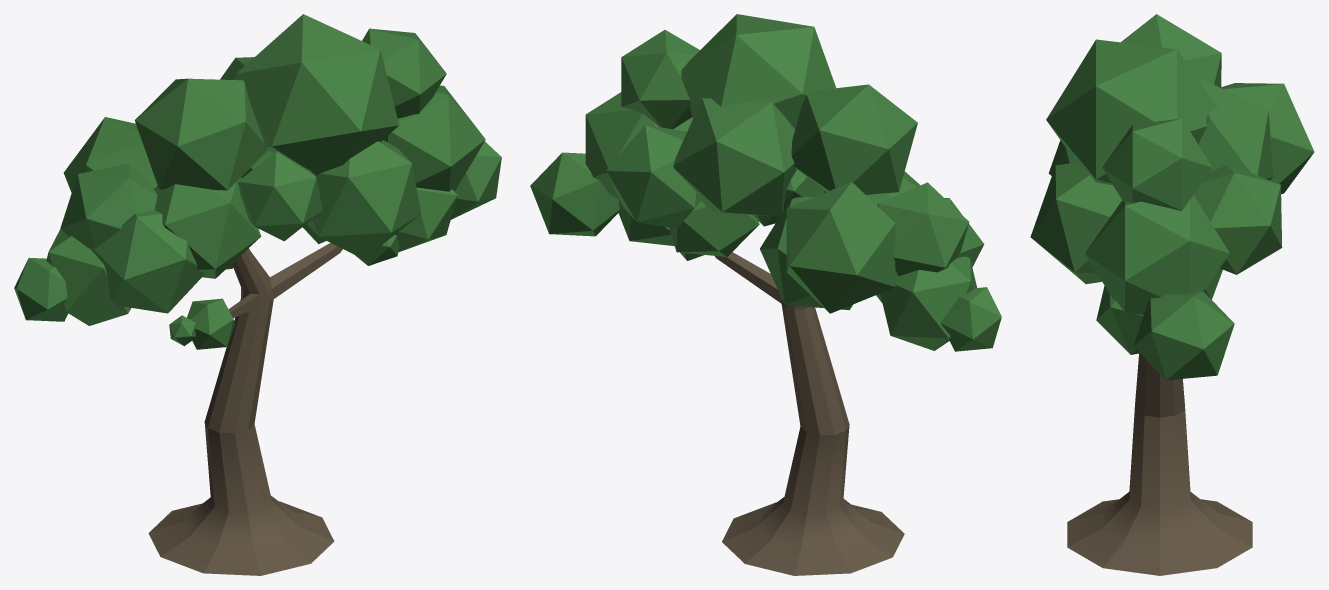
File: puu1.fbx
The picture shows the model from 3 angles, left to right: view 1: azimuth 30°, elevation 25°; view 2: azimuth 150°, elevation 25°; view 3: azimuth 270°, elevation 25°; orthographic projection. The views are drawn at different scales.
Visible parts, largest first — view 1: pCylinder1, pPlatonic14, pPlatonic6, pPlatonic24, pPlatonic25, pPlatonic8, pPlatonic2, pPlatonic4, pPlatonic28, pPlatonic27, pPlatonic5, pPlatonic26 (+5 smaller); view 2: pCylinder1, pPlatonic22, pPlatonic26, pPlatonic14, pPlatonic6, pPlatonic23, pPlatonic4, pPlatonic27, pPlatonic5, pPlatonic17, pPlatonic2, pPlatonic3 (+5 smaller); view 3: pCylinder1, pPlatonic14, pPlatonic2, pPlatonic27, pPlatonic17, pPlatonic23, pPlatonic24, pPlatonic22, pPlatonic26, pPlatonic6, pPlatonic1, pPlatonic28.
Part boxes in pixels (bbox=[...]): pCylinder1: bbox=[148, 243, 342, 575]; pPlatonic14: bbox=[236, 14, 399, 175]; pPlatonic6: bbox=[134, 78, 267, 190]; pPlatonic24: bbox=[307, 140, 421, 259]; pPlatonic25: bbox=[91, 210, 205, 313]; pPlatonic8: bbox=[154, 177, 261, 278]; pPlatonic2: bbox=[383, 85, 485, 191]; pPlatonic4: bbox=[60, 163, 157, 249]; pPlatonic28: bbox=[238, 151, 322, 241]; pPlatonic27: bbox=[362, 28, 446, 118]; pPlatonic5: bbox=[46, 229, 130, 325]; pPlatonic26: bbox=[63, 117, 157, 192]; pCylinder1: bbox=[715, 252, 904, 575]; pPlatonic22: bbox=[673, 98, 796, 216]; pPlatonic26: bbox=[786, 182, 895, 313]; pPlatonic14: bbox=[681, 14, 835, 128]; pPlatonic6: bbox=[791, 84, 917, 195]; pPlatonic23: bbox=[606, 125, 701, 228]; pPlatonic4: bbox=[877, 182, 969, 276]; pPlatonic27: bbox=[621, 30, 699, 129]; pPlatonic5: bbox=[880, 256, 977, 350]; pPlatonic17: bbox=[530, 152, 619, 236]; pPlatonic2: bbox=[585, 92, 693, 199]; pPlatonic3: bbox=[669, 200, 759, 256]; pCylinder1: bbox=[1067, 353, 1252, 575]; pPlatonic14: bbox=[1046, 39, 1217, 185]; pPlatonic2: bbox=[1085, 195, 1229, 314]; pPlatonic27: bbox=[1102, 118, 1212, 210]; pPlatonic17: bbox=[1133, 291, 1234, 380]; pPlatonic23: bbox=[1193, 165, 1282, 274]; pPlatonic24: bbox=[1030, 162, 1121, 284]; pPlatonic22: bbox=[1197, 77, 1273, 180]; pPlatonic26: bbox=[1221, 83, 1314, 194]; pPlatonic6: bbox=[1121, 14, 1221, 87]; pPlatonic1: bbox=[1096, 286, 1143, 354]; pPlatonic28: bbox=[1048, 140, 1075, 175].
Size of the model in its own units: 9.26 by 9.32 by 4.61.
